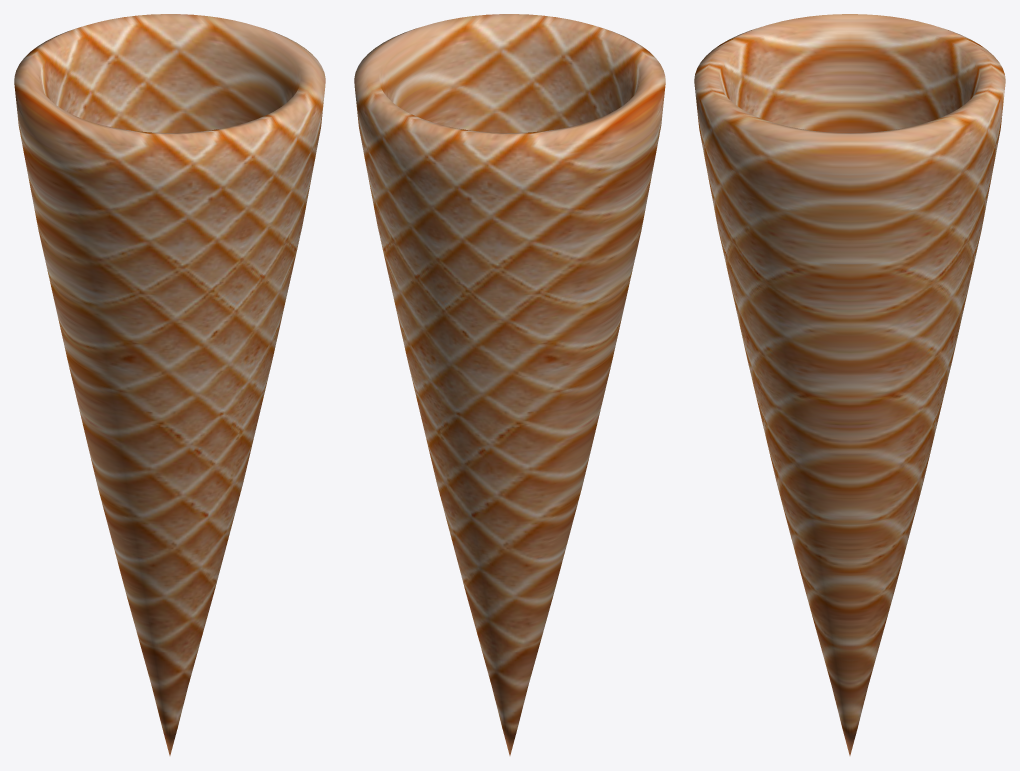
3 renders of one model, left to right at view 1: azimuth 30°, elevation 25°; view 2: azimuth 150°, elevation 25°; view 3: azimuth 270°, elevation 25°, orthographic.
Visible parts, largest first — view 1: Cylinder; view 2: Cylinder; view 3: Cylinder.
Boxes of the visible parts, left/top/right/bottom form: Cylinder: left=14, top=14, right=325, bottom=755; Cylinder: left=354, top=14, right=665, bottom=755; Cylinder: left=694, top=14, right=1005, bottom=755.
Size of the model in its own units: 187 by 453 by 187.
1 material, 1 textured.
